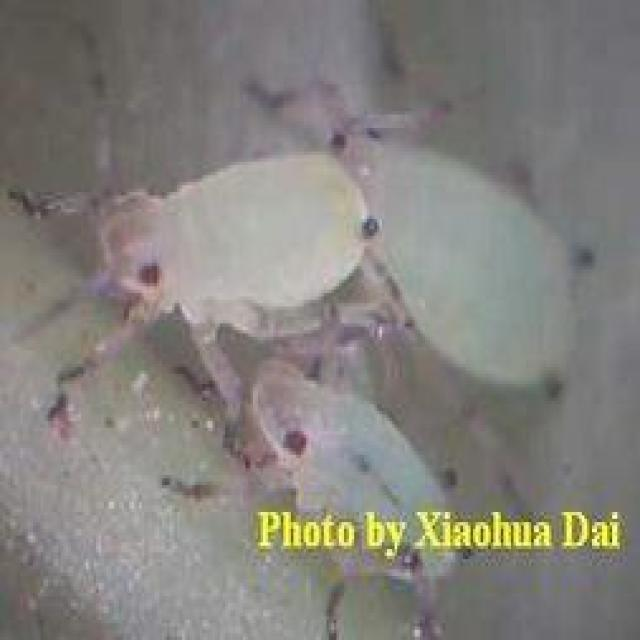Aphids: (22, 132, 424, 422)
